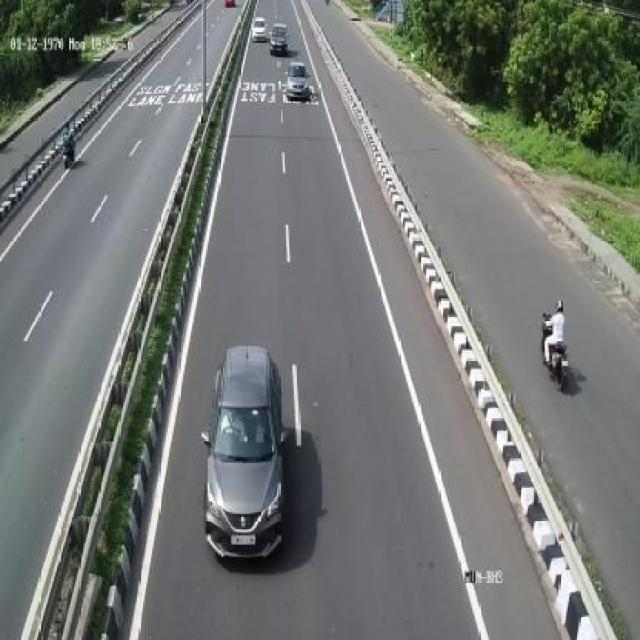car: (203, 337, 297, 565), (288, 55, 312, 103)
